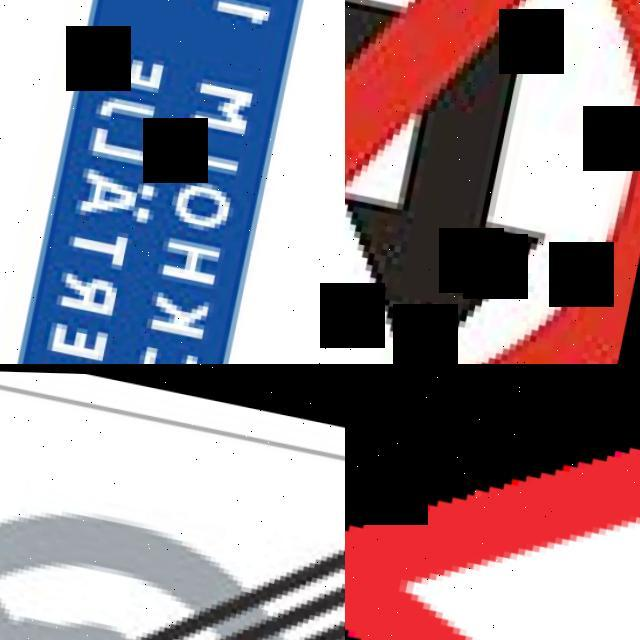111: (0, 364, 345, 640)
5: (0, 0, 332, 364)
No Left turn: (345, 0, 640, 364)
